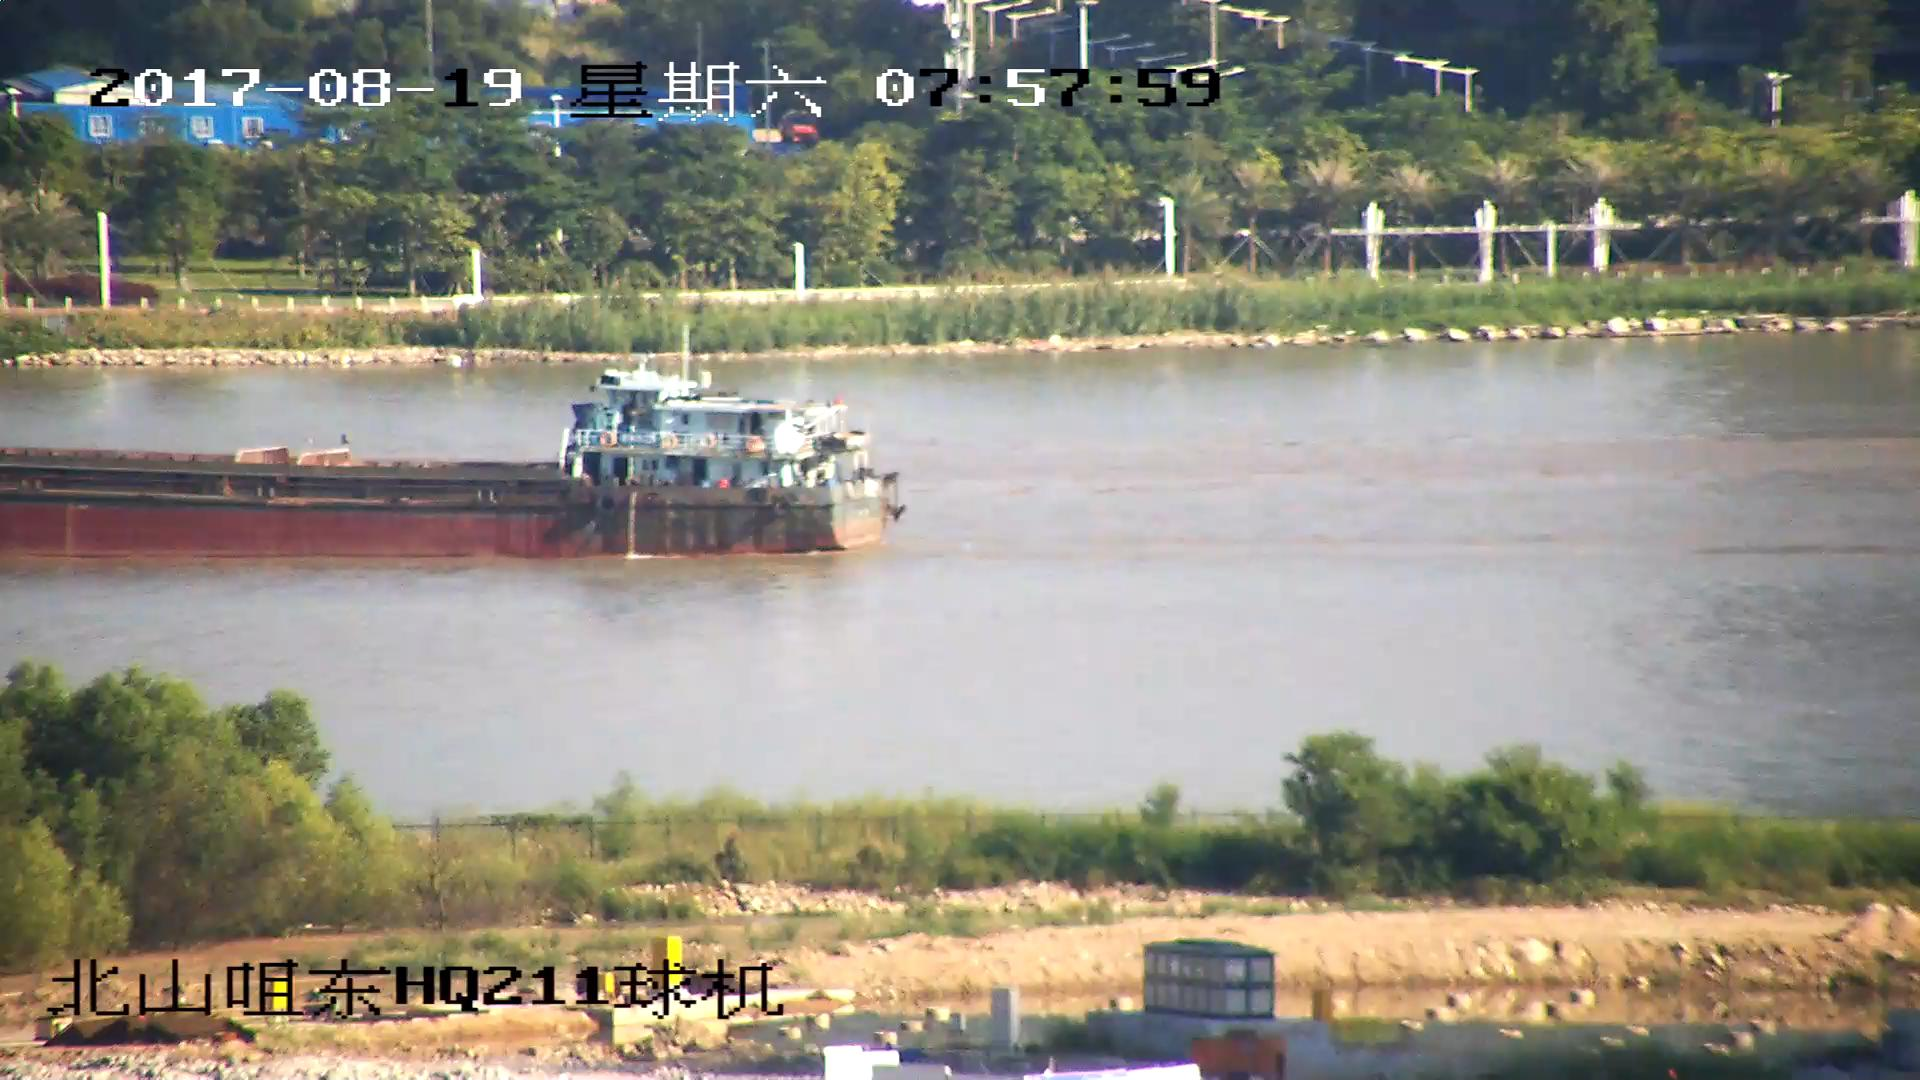bulk cargo carrier: (1, 341, 901, 557)
